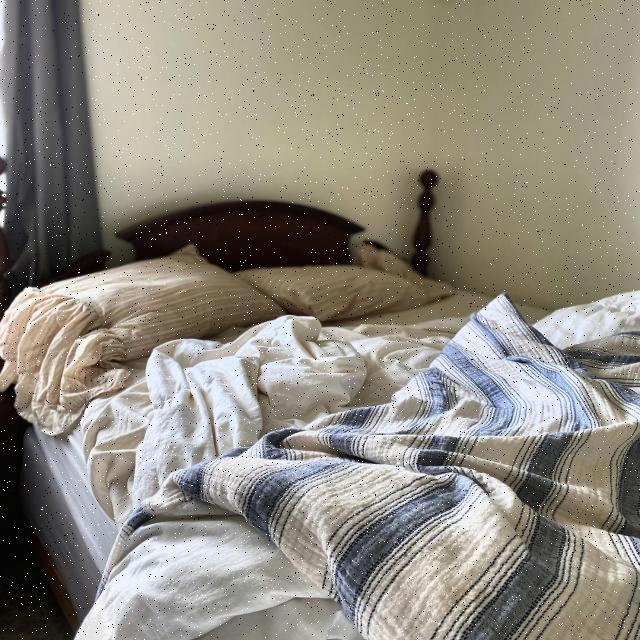bed: (16, 214, 640, 640)
